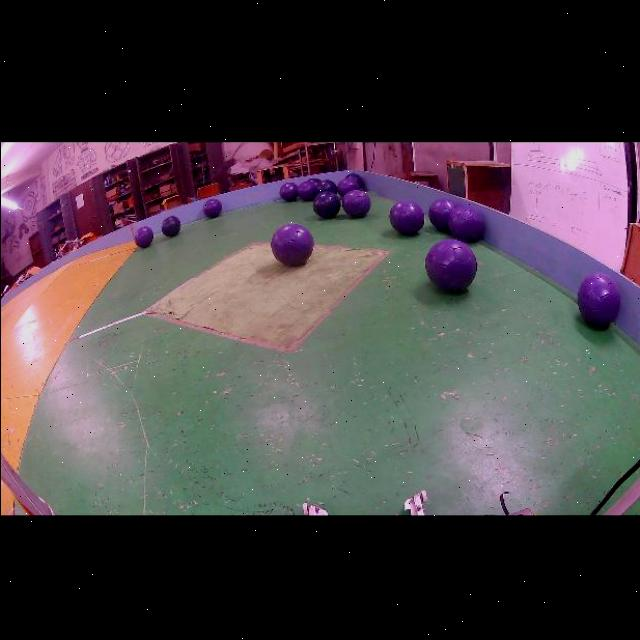B: (313, 191, 340, 218), (161, 215, 180, 236), (315, 179, 337, 193), (346, 172, 363, 188), (308, 176, 321, 183)
P: (424, 239, 476, 292), (578, 272, 621, 327), (270, 223, 314, 266), (448, 205, 484, 241), (389, 200, 424, 235), (428, 197, 457, 231), (341, 189, 371, 217), (337, 176, 359, 196), (134, 226, 153, 247), (202, 198, 222, 217), (297, 180, 315, 200), (279, 182, 297, 201)
